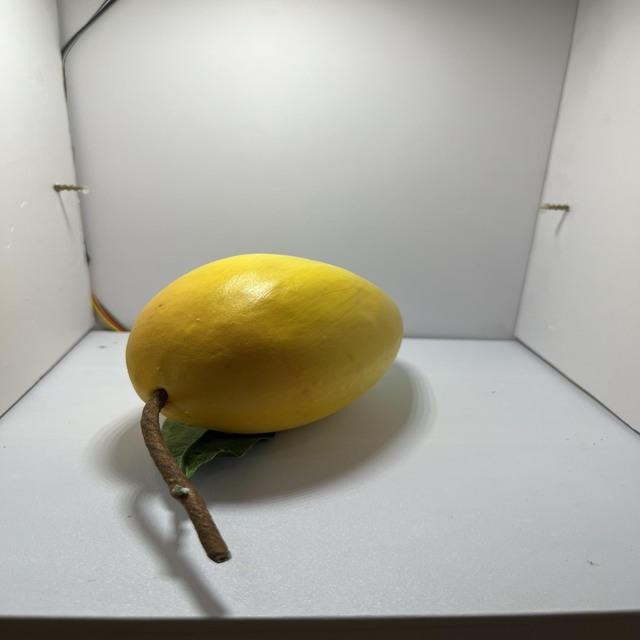Xoai: (115, 245, 413, 435)
